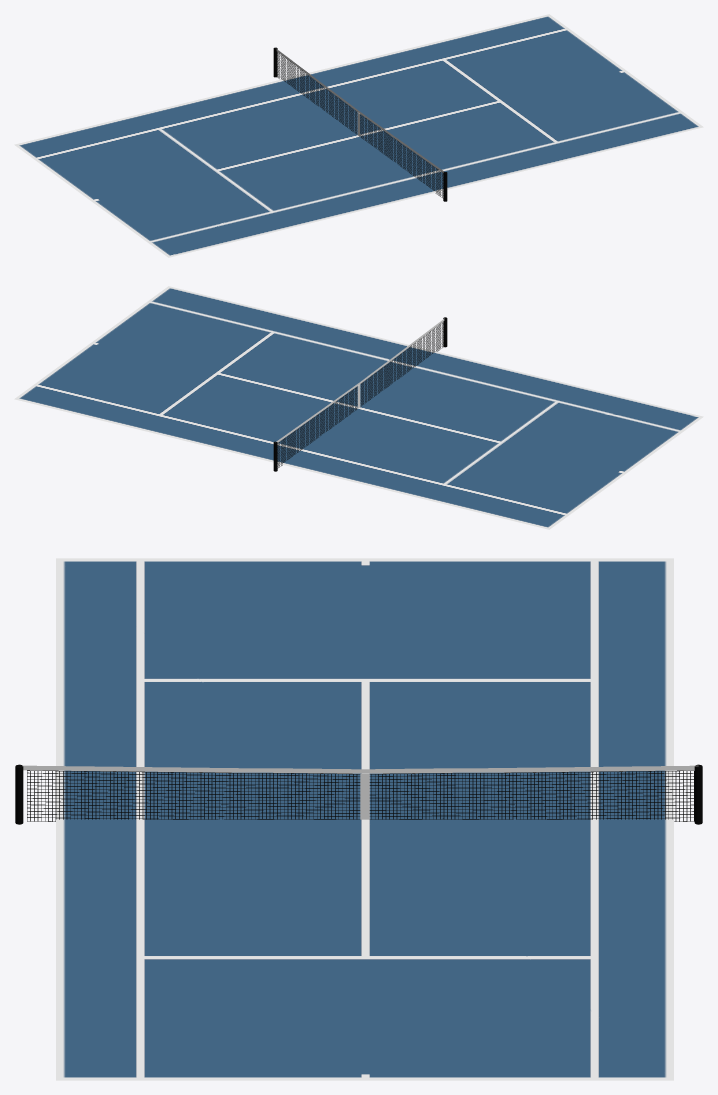
File: court.obj
3 renders of one model, top to bottom at view 1: azimuth 30°, elevation 25°; view 2: azimuth 150°, elevation 25°; view 3: azimuth 270°, elevation 25°, orthographic. The views are drawn at different scales.
Parts seen in each view (by area): view 1: Plane, Plane.003_Plane.004, Plane.002_Plane.005; view 2: Plane, Plane.003_Plane.004, Plane.002_Plane.005; view 3: Plane, Plane.003_Plane.004, Plane.002_Plane.005.
Boxes of the visible parts, bbox=[...] form: Plane: bbox=[14, 14, 703, 257]; Plane.003_Plane.004: bbox=[276, 52, 442, 197]; Plane.002_Plane.005: bbox=[276, 48, 444, 172]; Plane: bbox=[14, 286, 703, 529]; Plane.003_Plane.004: bbox=[278, 321, 443, 467]; Plane.002_Plane.005: bbox=[276, 318, 444, 442]; Plane: bbox=[56, 558, 673, 1080]; Plane.003_Plane.004: bbox=[27, 770, 694, 821]; Plane.002_Plane.005: bbox=[22, 765, 698, 773].
Size of the model in its own units: 22 by 1.14 by 12.22.
4 materials, 4 textured.
